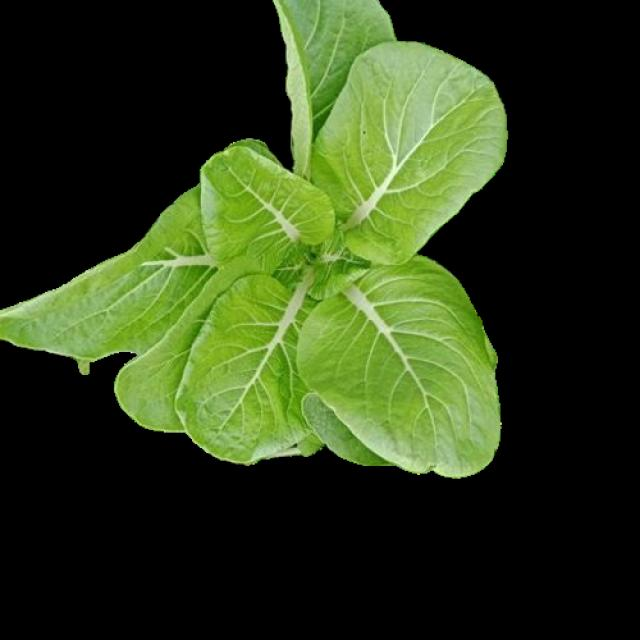healthy: (2, 1, 504, 479)
mature: (2, 1, 504, 482)
